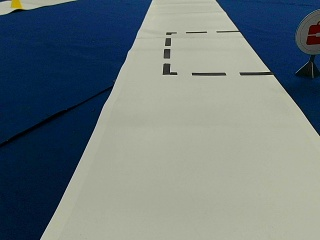company: (295, 9, 319, 53)
